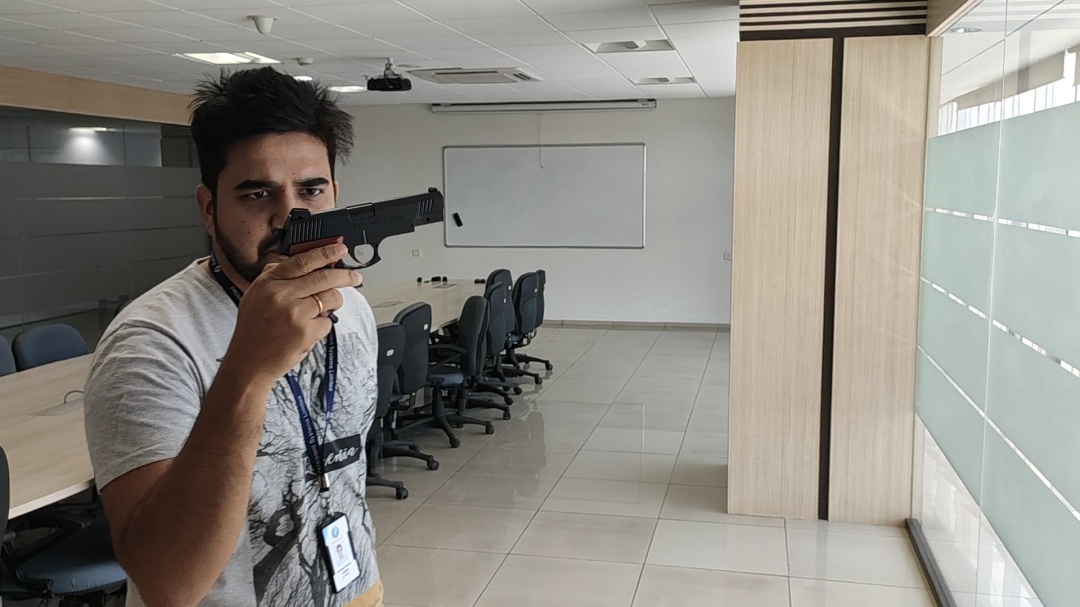gun: (255, 183, 450, 268)
